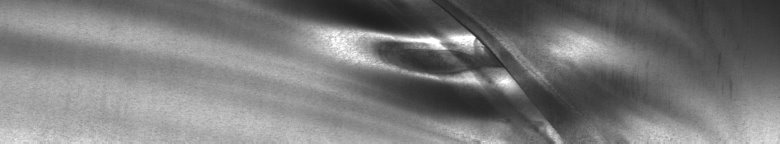ke: (325, 19, 560, 136)
